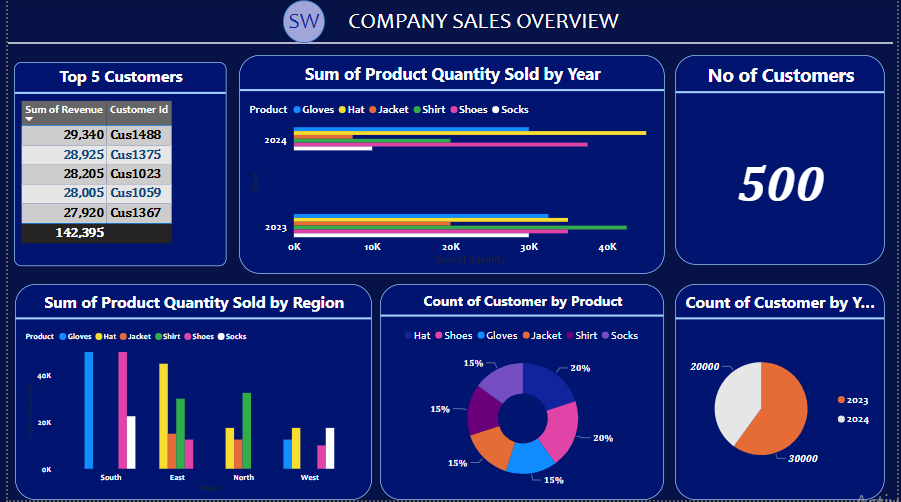

The dashboard page shown, as its layout file describes it:
{"tool":"powerbi","page":{"name":" Sales data Report (2))","canvas":[1280,720],"ordinal":1},"visuals":[{"type":"shape","box":[0,10.1,1274.4,103.7],"z":0},{"type":"shape","box":[396,0,60.5,61.9],"z":1000},{"type":"textbox","box":[374.4,5.8,534.2,56.2],"z":2000},{"type":"clusteredColumnChart","title":"Sum of Product Quantity Sold by Region","fields":{"Category":["SalesData.Region"],"Y":["Sum(SalesData.Quantity)"],"Series":["SalesData.Product"]},"box":[10.1,409,514.1,311],"z":3000},{"type":"clusteredBarChart","title":"Sum of Product Quantity Sold by Year ","fields":{"Category":["SalesData.OrderDate.Variation.Date Hierarchy.Year"],"Series":["SalesData.Product"],"Y":["Sum(SalesData.Quantity)"]},"box":[334.3,93,613.2,316.4],"z":4000},{"type":"card","title":"No of Customers","fields":{"Values":["Count(SalesData.Customer Id)"]},"box":[960.5,79.2,302.4,302.4],"z":5000},{"type":"pieChart","title":"Count of Customer by Product","fields":{"Y":["CountNonNull(SalesData.Customer Id)"],"Category":["SalesData.Product"]},"box":[536.3,409.4,409.4,311.1],"z":6000},{"type":"pieChart","title":"Count of Customer by Year","fields":{"Y":["CountNonNull(SalesData.Customer Id)"],"Category":["SalesData.OrderDate.Variation.Date Hierarchy.Year"]},"box":[960,409,302,311],"z":7000},{"type":"tableEx","title":"Top 5 Customers","fields":{"Values":["SalesData.Revenue","SalesData.Customer Id","SalesData.Region"]},"box":[10.1,87.8,306.7,293.8],"z":8000}]}

Visuals, with their boxes in screenshot pixels (x1, y1, x2, y2), scaled from the page's 1280x720 canvas onto the 901x502 screenshot:
shape: crop(0, 7, 897, 79)
shape: crop(279, 0, 321, 43)
textbox: crop(264, 4, 640, 43)
"Sum of Product Quantity Sold by Region" clusteredColumnChart: crop(7, 285, 369, 501)
"Sum of Product Quantity Sold by Year " clusteredBarChart: crop(235, 65, 667, 285)
"No of Customers" card: crop(676, 55, 889, 266)
"Count of Customer by Product" pieChart: crop(378, 285, 666, 501)
"Count of Customer by Year" pieChart: crop(676, 285, 888, 501)
"Top 5 Customers" tableEx: crop(7, 61, 223, 266)
